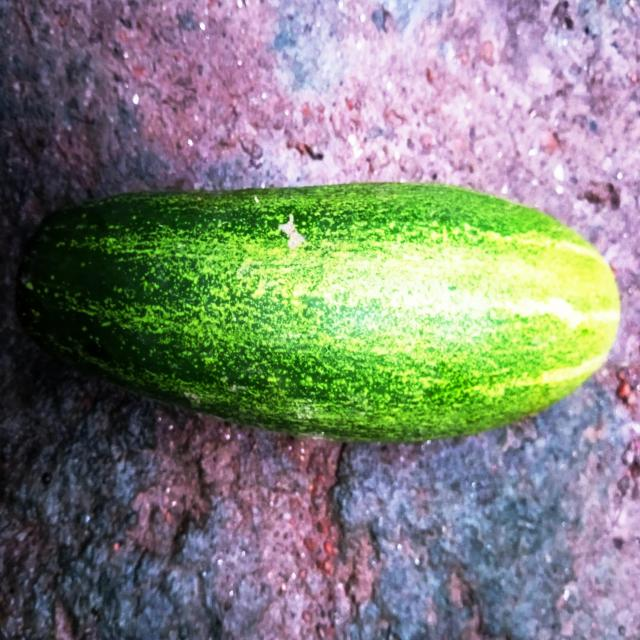Fresh-Cucumber: (10, 180, 622, 443)
